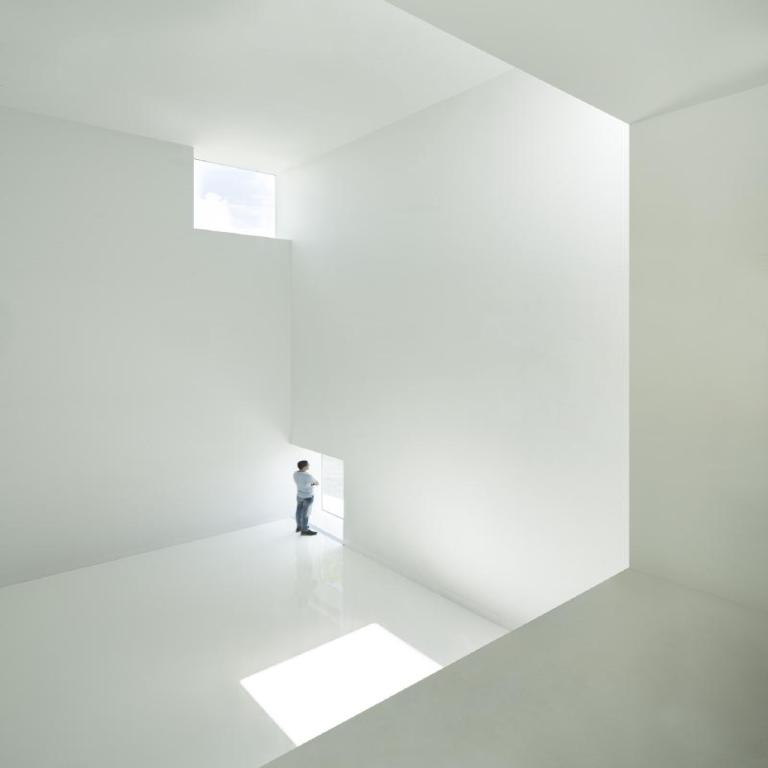white-walls: (12, 32, 720, 679)
